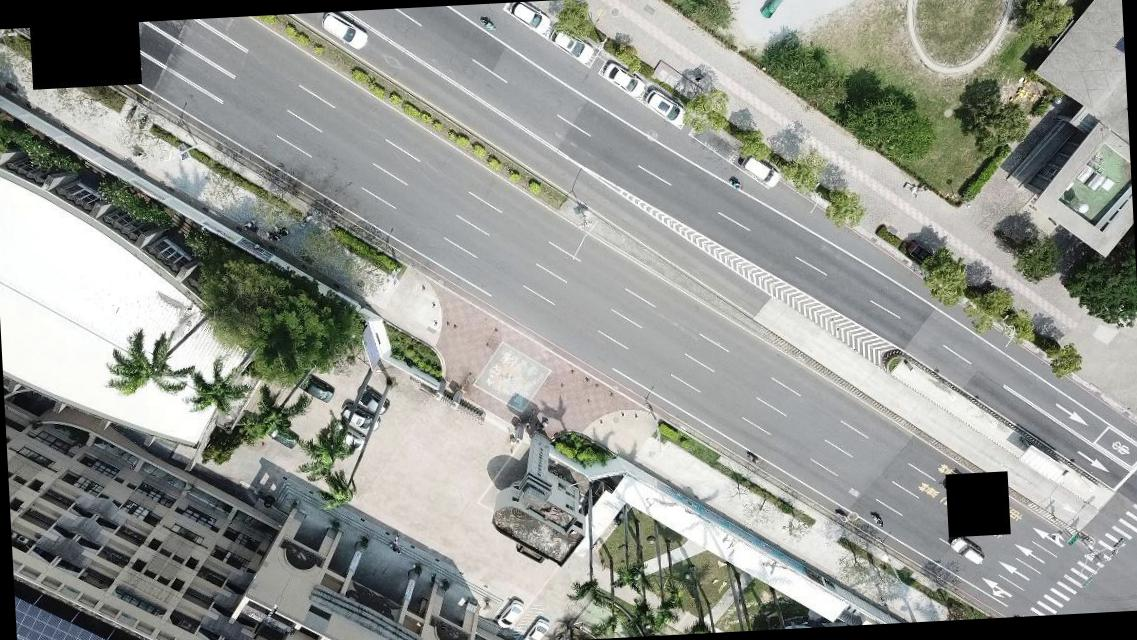vehicle: (320, 10, 366, 50), (738, 149, 780, 188), (602, 63, 643, 98), (645, 86, 682, 124), (509, 1, 550, 34), (552, 31, 593, 64), (352, 386, 392, 418), (336, 403, 378, 433), (330, 420, 367, 454), (261, 420, 299, 450), (949, 536, 984, 566), (493, 597, 524, 630), (300, 372, 332, 403), (521, 616, 554, 639)
